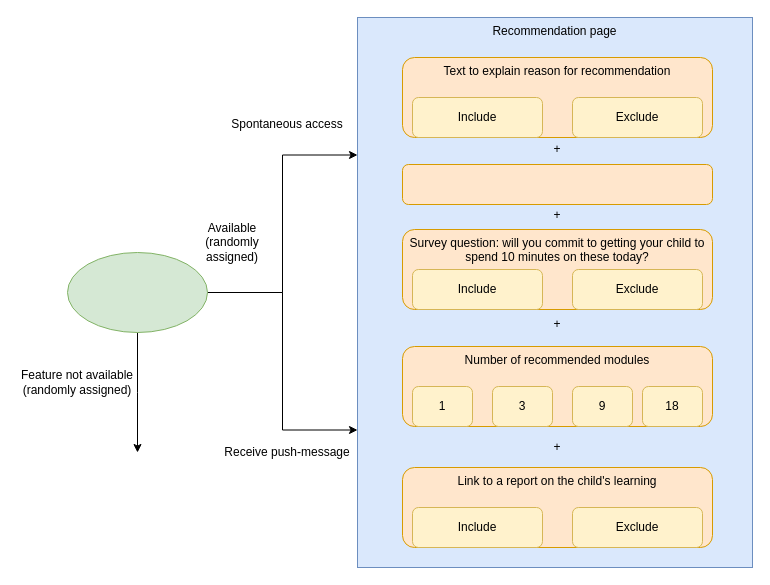
Image size: 770x585. Some labels were removed from this diagram. The centre of each missing label's shape, as x and y in pixels:
"All parents" belongs at point (137, 292).
"Survey question: do you find these useful for your child's learning?" belongs at point (557, 184).
